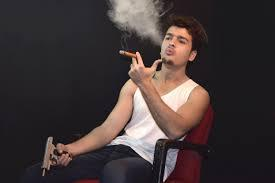smoker: (110, 6, 211, 109)
